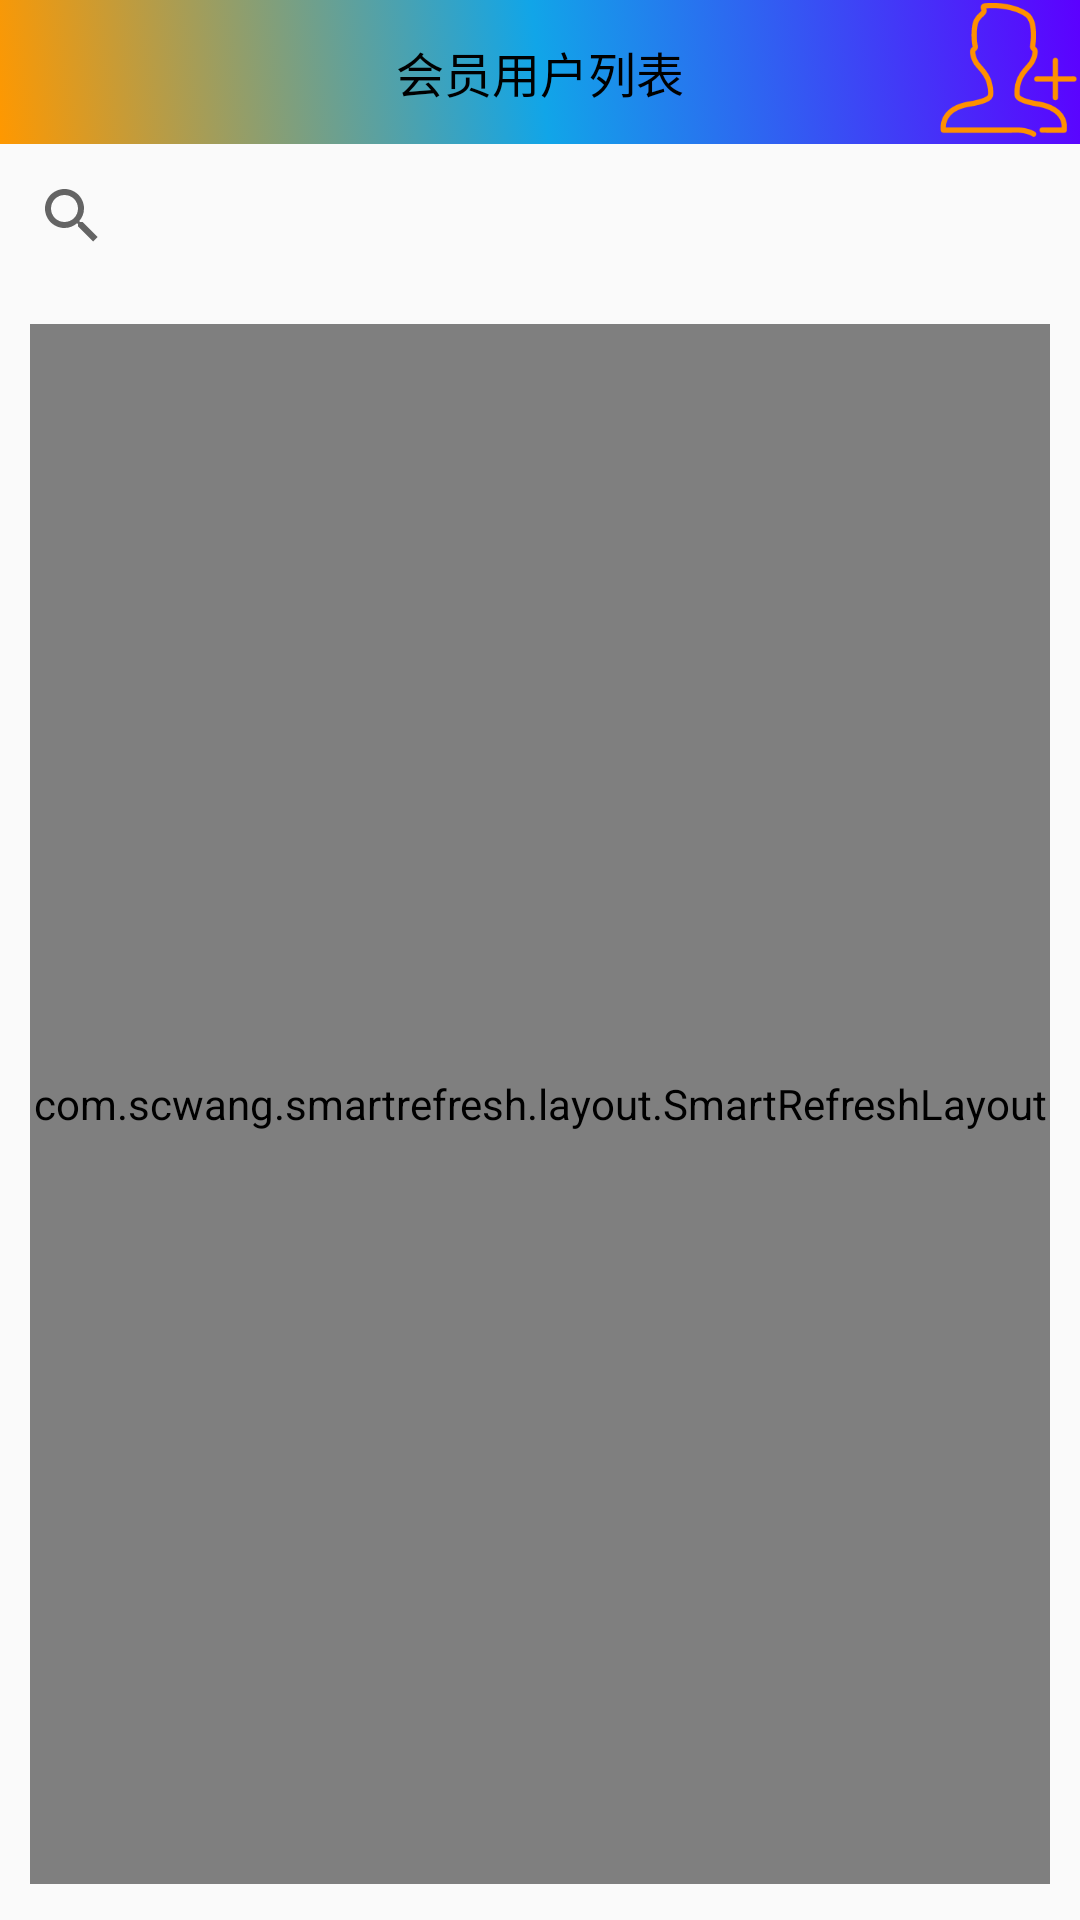

Where to tap for icons on this 1080px x 1920px app screen, as [x,y]:
add user: [1008,72]
